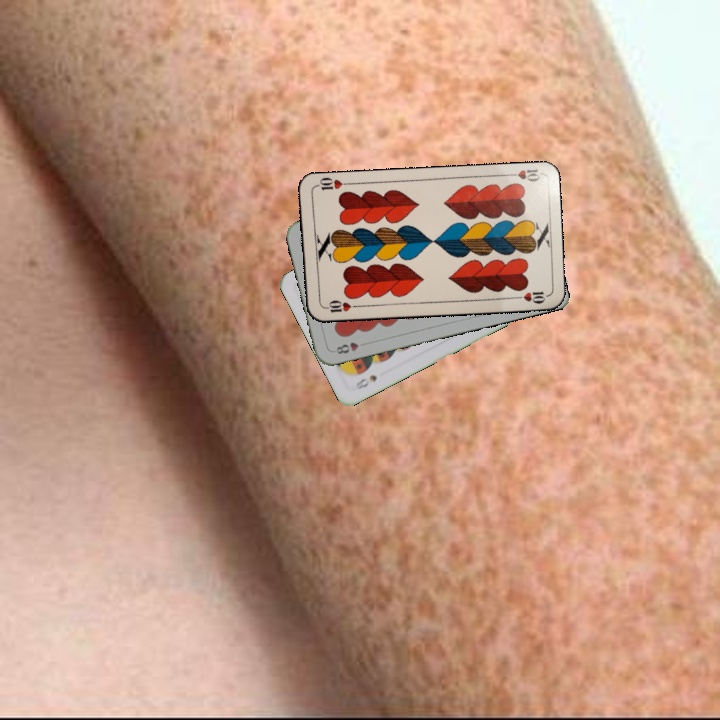H10: (320, 296, 361, 315), (502, 165, 543, 184)
H8: (332, 338, 370, 357)
S8: (352, 371, 380, 392)
